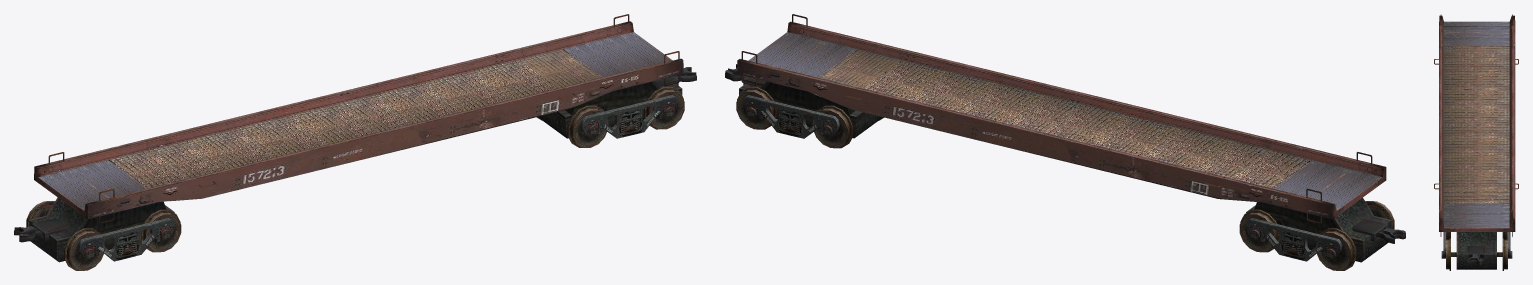
File: flatcar.glb
The picture shows the model from 3 angles, left to right: view 1: azimuth 30°, elevation 25°; view 2: azimuth 150°, elevation 25°; view 3: azimuth 270°, elevation 25°; orthographic projection. The views are drawn at different scales.
Visible parts, largest first — view 1: 2_Flatcar, 1_diesel, 0_Boxcar; view 2: 2_Flatcar, 1_diesel, 0_Boxcar; view 3: 2_Flatcar, 1_diesel, 0_Boxcar.
Boxes of the visible parts, box(x1,y1,x2,y2) form: 2_Flatcar: box(34, 14, 683, 223); 1_diesel: box(26, 81, 684, 270); 0_Boxcar: box(14, 67, 696, 242); 2_Flatcar: box(737, 14, 1386, 223); 1_diesel: box(736, 81, 1394, 270); 0_Boxcar: box(725, 64, 1405, 243); 2_Flatcar: box(1434, 14, 1518, 236); 1_diesel: box(1441, 232, 1512, 270); 0_Boxcar: box(1467, 246, 1485, 265).
Bounding box in the file's own units: 18.41 × 2.11 × 2.81.
Materials: 3 (3 with a texture image).
